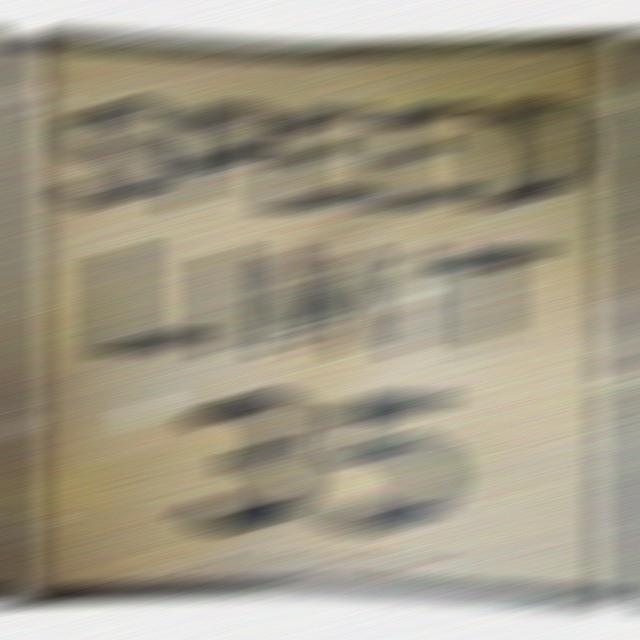speedLimit35: (5, 27, 638, 599)
